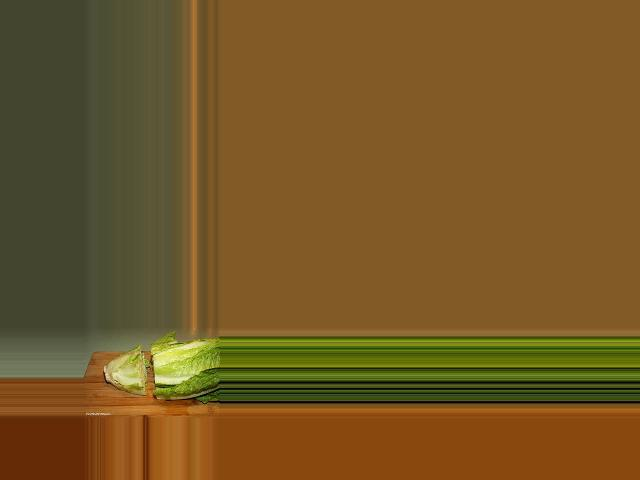lettuce: (105, 334, 218, 407)
